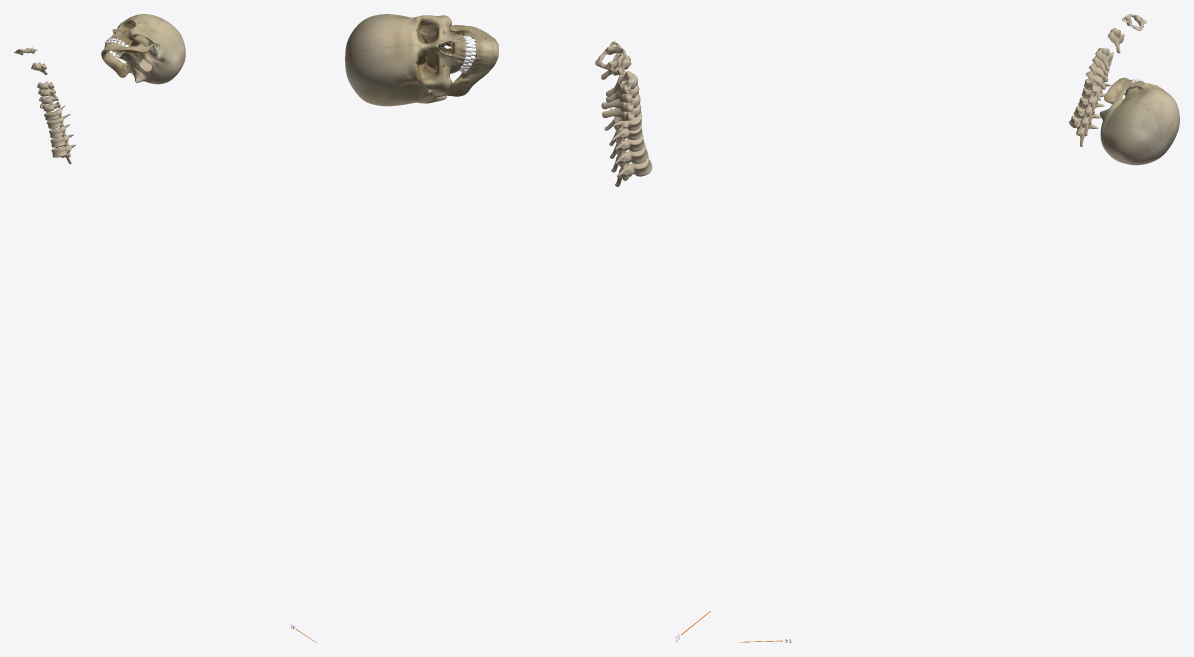
File: pivot_joint_neck_compressed.glb
3 views of the same model, side by side, from view 1: azimuth 30°, elevation 25°; view 2: azimuth 150°, elevation 25°; view 3: azimuth 270°, elevation 25° (orthographic). The views are drawn at different scales.
Visible parts, largest first — view 1: Male_Skeletal_Skull_Geo_skull bones_0.001, Male_Skeletal_Atlas_Geo_bones back_0; view 2: Male_Skeletal_Skull_Geo_skull bones_0.001, Male_Skeletal_Atlas_Geo_bones back_0; view 3: Male_Skeletal_Skull_Geo_skull bones_0.001, Male_Skeletal_Atlas_Geo_bones back_0.
Boxes of the visible parts, x1,y1,x2,y2 form: Male_Skeletal_Skull_Geo_skull bones_0.001: (101, 14, 185, 84); Male_Skeletal_Atlas_Geo_bones back_0: (14, 47, 75, 164); Male_Skeletal_Skull_Geo_skull bones_0.001: (345, 14, 498, 106); Male_Skeletal_Atlas_Geo_bones back_0: (595, 41, 652, 186); Male_Skeletal_Skull_Geo_skull bones_0.001: (1099, 77, 1179, 165); Male_Skeletal_Atlas_Geo_bones back_0: (1069, 14, 1146, 146).
Bounding box in the file's own units: 47.98 × 140 × 98.7.
6 materials, 3 textured.
